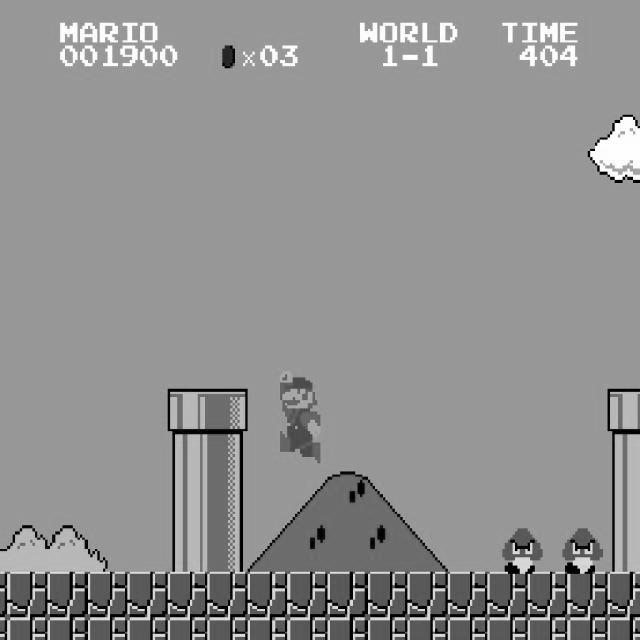0- big_mario: (277, 368, 320, 462)
14- pipe: (167, 434, 208, 480), (167, 480, 208, 526), (167, 526, 208, 572), (207, 434, 248, 480), (207, 480, 248, 526), (207, 526, 248, 572), (607, 525, 640, 571), (607, 434, 640, 479), (607, 480, 640, 525)
15- pipe_head: (167, 388, 208, 434), (207, 388, 248, 434), (607, 388, 640, 434)
17- undestructible_block: (7, 572, 48, 618), (47, 572, 88, 618), (87, 572, 128, 618), (127, 572, 168, 618), (167, 572, 208, 618), (207, 572, 248, 618), (247, 572, 288, 618), (287, 572, 328, 618), (327, 572, 368, 618), (367, 572, 408, 618), (407, 572, 448, 618), (447, 572, 488, 618), (487, 572, 528, 618), (527, 572, 568, 618), (567, 572, 608, 618), (607, 571, 640, 617), (7, 617, 48, 640), (47, 617, 88, 640), (87, 617, 128, 640), (127, 617, 168, 640), (167, 617, 208, 640), (207, 617, 248, 640), (247, 617, 288, 640), (287, 617, 328, 640), (327, 617, 368, 640), (367, 617, 408, 640), (407, 617, 448, 640), (447, 617, 488, 640), (487, 617, 528, 640), (527, 617, 568, 640), (567, 617, 608, 640), (607, 617, 640, 639), (0, 572, 7, 618), (0, 617, 7, 640)
8- goomba: (500, 526, 543, 574), (560, 526, 602, 574)
